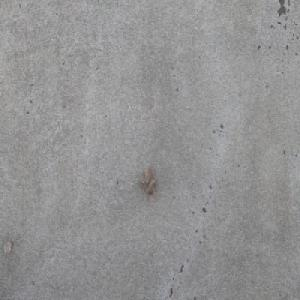Rock: (137, 163, 156, 195)
